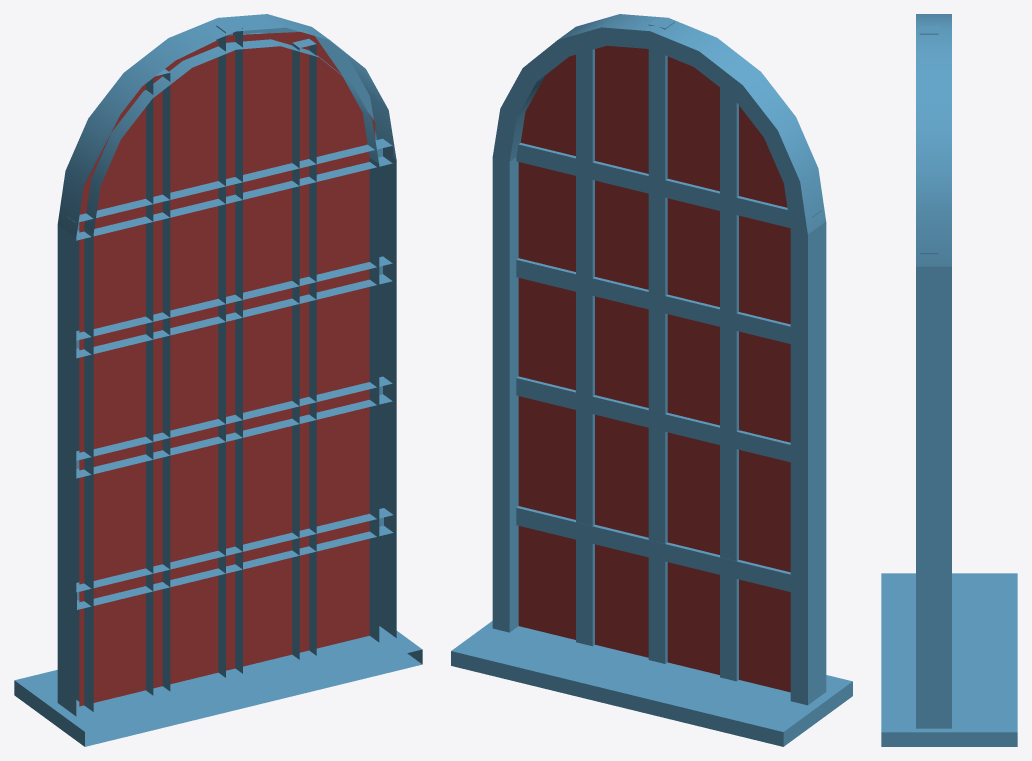
Rendered from Prop_ExtWindow.fbx.
3 renders of one model, left to right at view 1: azimuth 30°, elevation 25°; view 2: azimuth 150°, elevation 25°; view 3: azimuth 270°, elevation 25°, orthographic. The views are drawn at different scales.
Parts seen in each view (by area): view 1: polySurface15; view 2: polySurface15; view 3: polySurface15.
Part boxes in pixels (box(x1,y1,x2,y2)): polySurface15: box(14, 14, 422, 746); polySurface15: box(451, 14, 852, 746); polySurface15: box(881, 14, 1017, 746).
Bounding box in the file's own units: 104 × 196 × 37.63.
